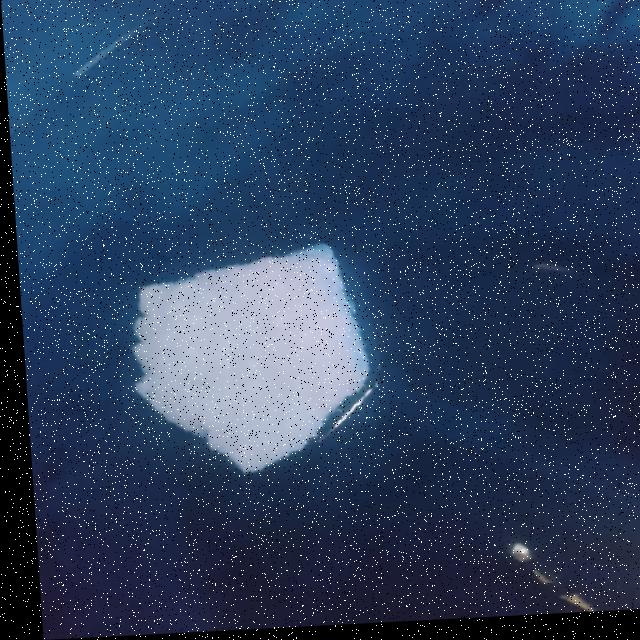litter: (87, 218, 387, 512)
